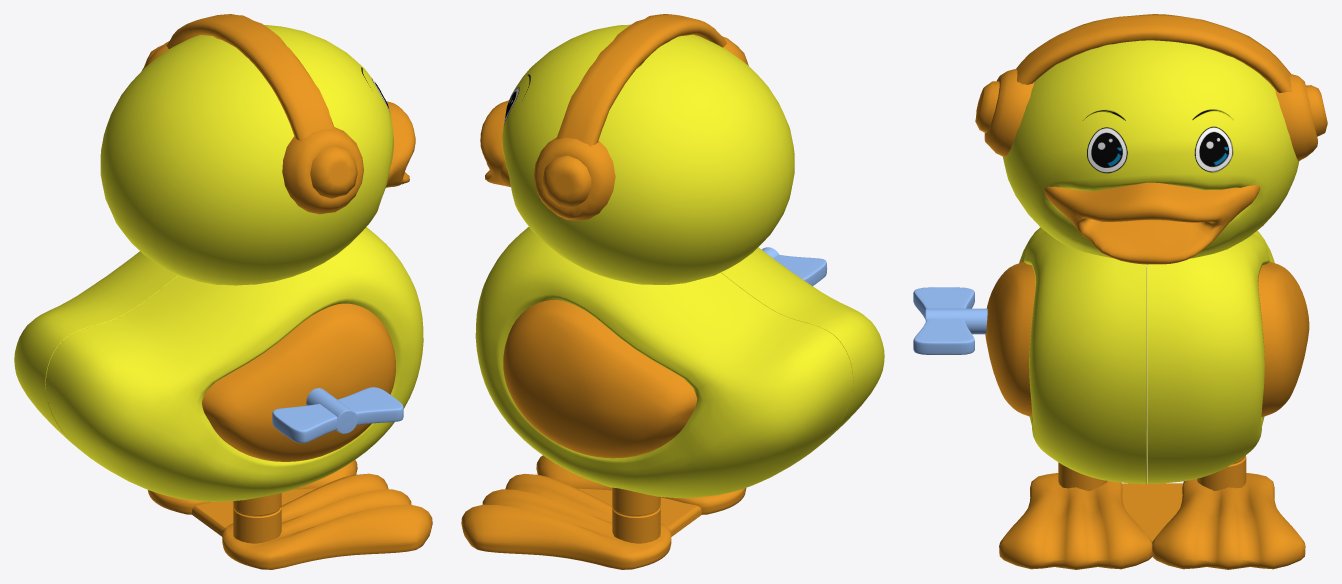
3 views of the same model, side by side, from view 1: azimuth 30°, elevation 25°; view 2: azimuth 150°, elevation 25°; view 3: azimuth 270°, elevation 25° (orthographic).
Parts seen in each view (by area): view 1: Duck, Foot, Key; view 2: Duck, Foot, Key; view 3: Duck, Foot, Key.
Part boxes in pixels (bbox=[...]): Duck: bbox=[14, 14, 423, 501]; Foot: bbox=[148, 460, 432, 569]; Key: bbox=[272, 387, 403, 443]; Duck: bbox=[475, 14, 884, 498]; Foot: bbox=[461, 455, 746, 569]; Key: bbox=[762, 247, 827, 285]; Duck: bbox=[975, 14, 1327, 483]; Foot: bbox=[999, 455, 1305, 569]; Key: bbox=[913, 287, 987, 354].
Bounding box in the file's own units: 9.26 × 12.01 × 9.16.
2 materials, 1 textured.
